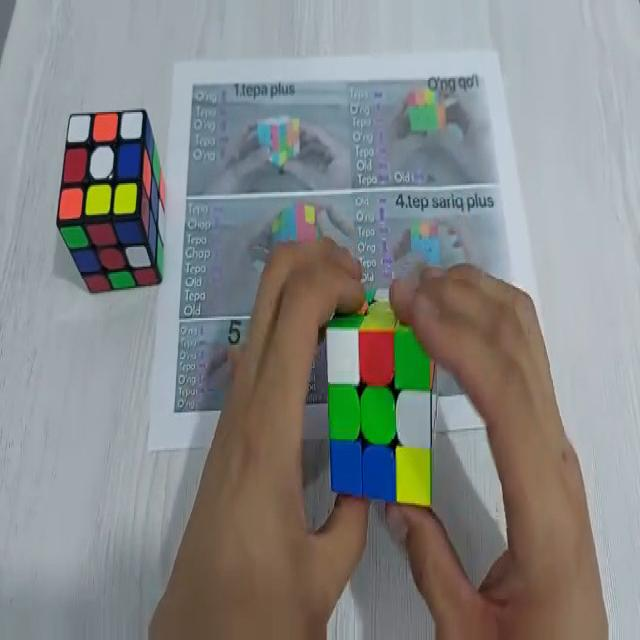Rub: (324, 298, 439, 508), (56, 105, 168, 293)
